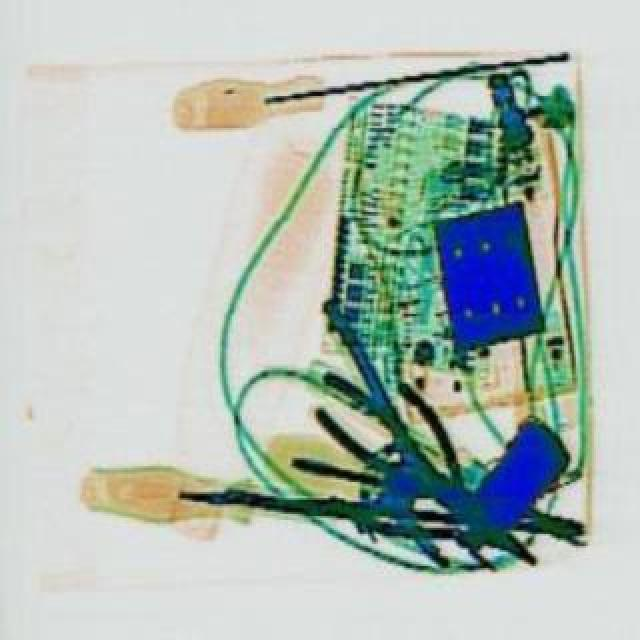wrench: (306, 352, 570, 594), (280, 452, 584, 548)
